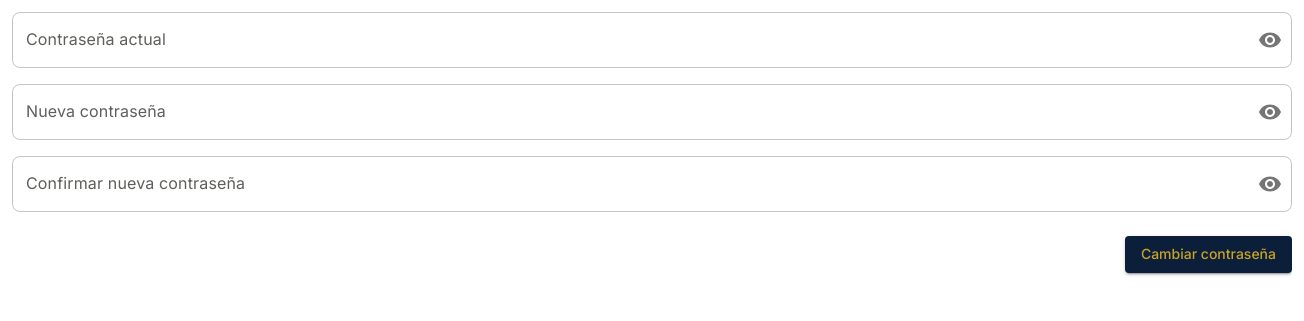
Test: ChangePasswordForm › form submission validation › should show validation error when current password is empty
The width and height of the screenshot is (1304, 321).
Type "NewPass123" into the password field labelled "Nueva contraseña".
click(627, 112); type("NewPass123")  # box top-left (12, 84), bottom-right (1242, 140)
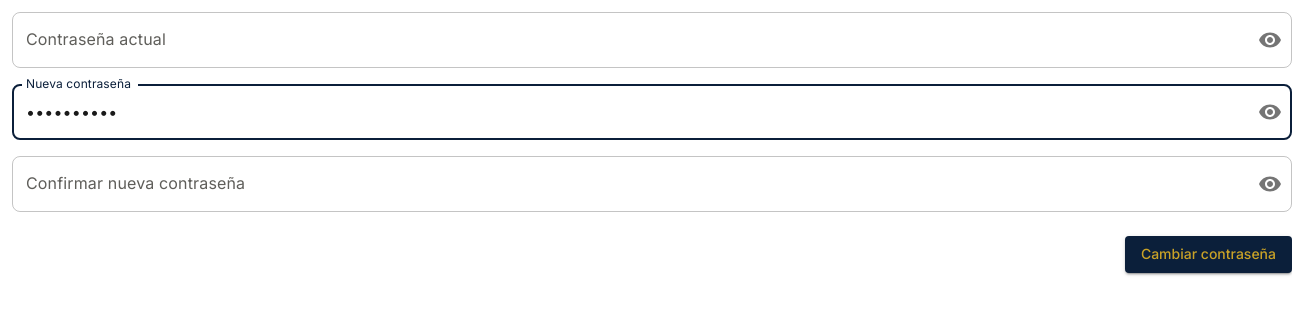
Type "NewPass123" into the password field labelled "Confirmar nueva contraseña".
click(627, 184); type("NewPass123")  # box top-left (12, 156), bottom-right (1242, 212)
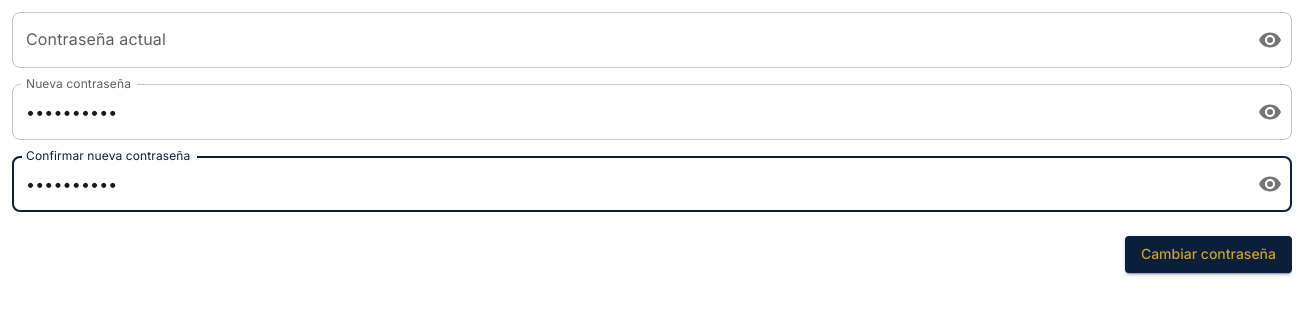
Click the button "Cambiar contraseña".
click(1208, 254)  # box top-left (1125, 236), bottom-right (1292, 272)
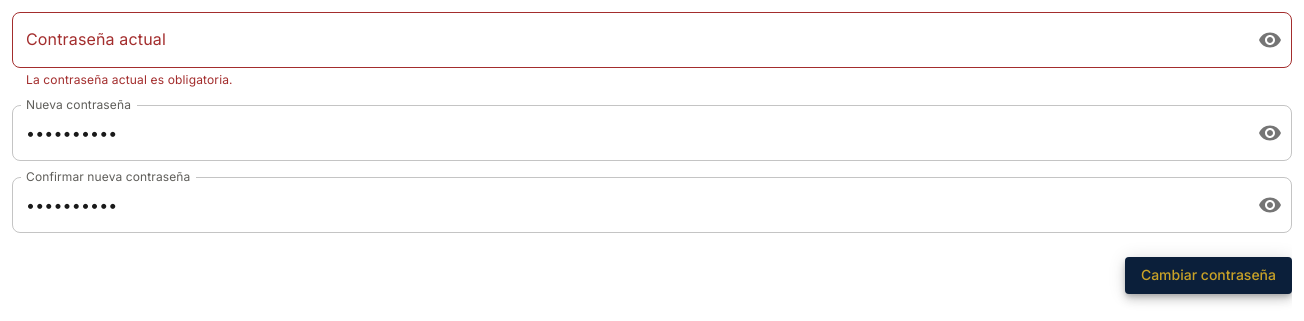
Check: the text "La contraseña actual es obligatoria." is shown, box top-left (26, 72), bottom-right (233, 87)
